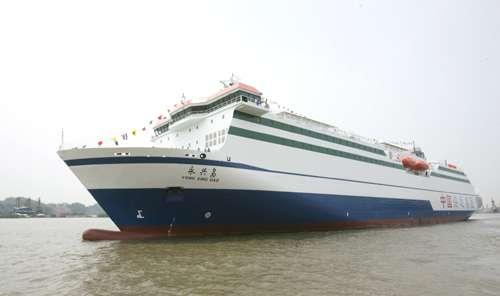youlun: (51, 78, 476, 238)
